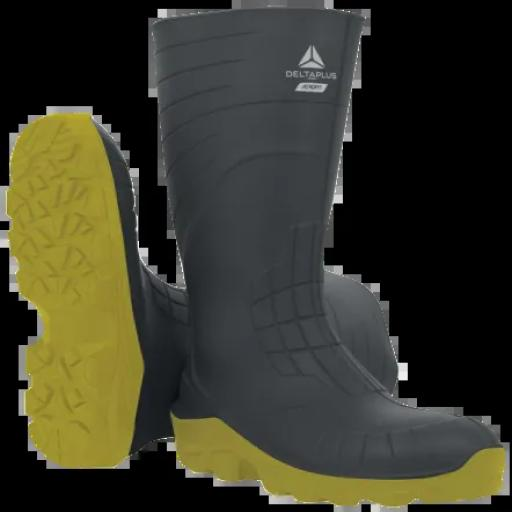safety_boots: (144, 9, 512, 509), (5, 107, 155, 474)
